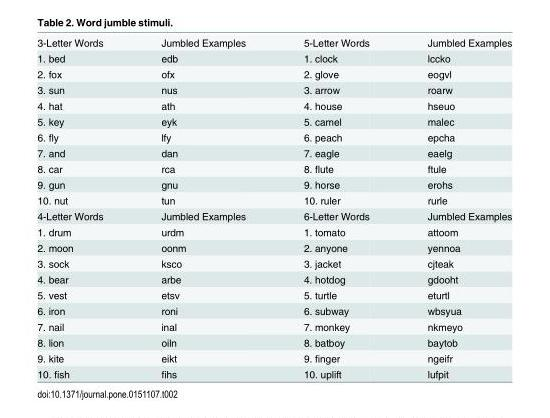table: (36, 36, 511, 379)
table column: (131, 36, 273, 379), (273, 36, 397, 379), (397, 36, 511, 379), (36, 36, 131, 379)
table row: (36, 65, 511, 81), (36, 81, 511, 97), (36, 97, 511, 113), (36, 128, 511, 144), (36, 144, 511, 160), (36, 160, 511, 176), (36, 176, 511, 192), (36, 207, 511, 223), (36, 223, 511, 239), (36, 239, 511, 255), (36, 255, 511, 271), (36, 286, 511, 302), (36, 302, 511, 318), (36, 318, 511, 334), (36, 349, 511, 365), (36, 50, 511, 65), (36, 113, 511, 128), (36, 192, 511, 207), (36, 271, 511, 286), (36, 334, 511, 349), (36, 36, 511, 50), (36, 365, 511, 379)
